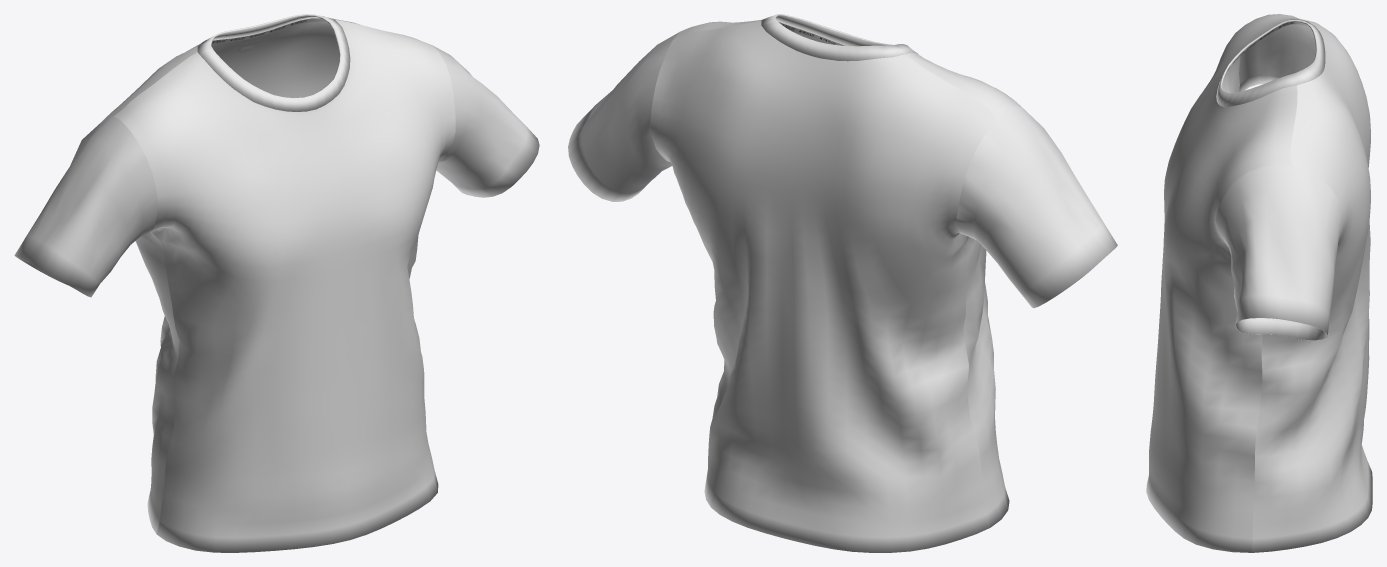
3 views of the same model, side by side, from view 1: azimuth 30°, elevation 25°; view 2: azimuth 150°, elevation 25°; view 3: azimuth 270°, elevation 25° (orthographic). The views are drawn at different scales.
Parts seen in each view (by area): view 1: model_front, model_sleeve_right, model_sleeve_left, model_inside, model_back, model_collar; view 2: model_back, model_sleeve_right, model_sleeve_left, model_front, model_collar; view 3: model_front, model_back, model_sleeve_left, model_inside, model_collar, model_sleeve_right.
Part boxes in pixels (x1,y1,x2,y2): model_front: (114, 20, 455, 552); model_sleeve_right: (14, 116, 157, 297); model_sleeve_left: (432, 45, 539, 197); model_inside: (211, 22, 339, 97); model_back: (106, 18, 359, 533); model_collar: (197, 14, 350, 111); model_back: (650, 20, 995, 552); model_sleeve_right: (956, 106, 1117, 308); model_sleeve_left: (568, 32, 679, 201); model_front: (673, 19, 1021, 527); model_collar: (761, 14, 918, 61); model_front: (1146, 14, 1297, 552); model_back: (1252, 16, 1372, 552); model_sleeve_left: (1215, 164, 1344, 340); model_inside: (1222, 24, 1315, 325); model_collar: (1216, 19, 1325, 107); model_sleeve_right: (1239, 74, 1278, 91).
Size of the model in its own units: 0.6751 by 0.5883 by 0.27.
4 materials, 2 textured.
